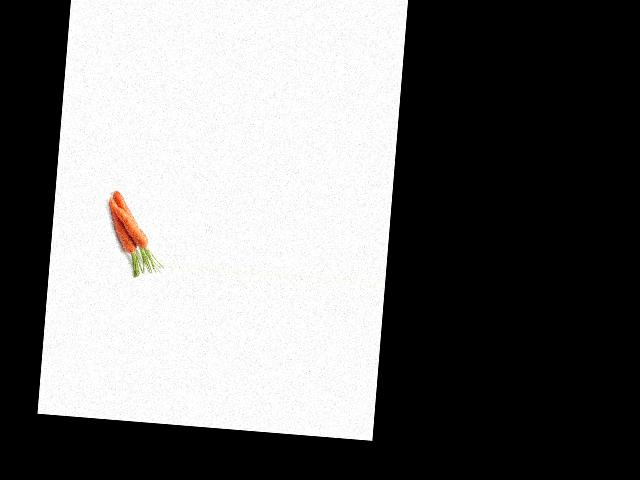carrot: (110, 190, 141, 228)
